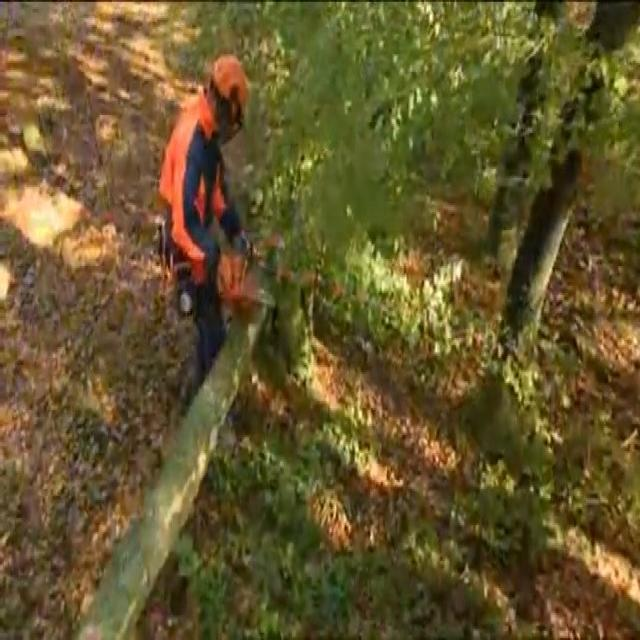Chainsaw: (194, 230, 281, 324)
